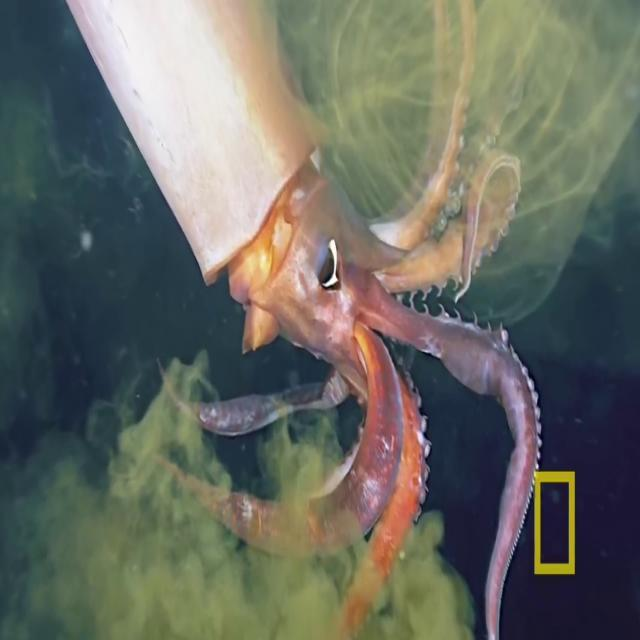squid: (64, 0, 543, 640)
